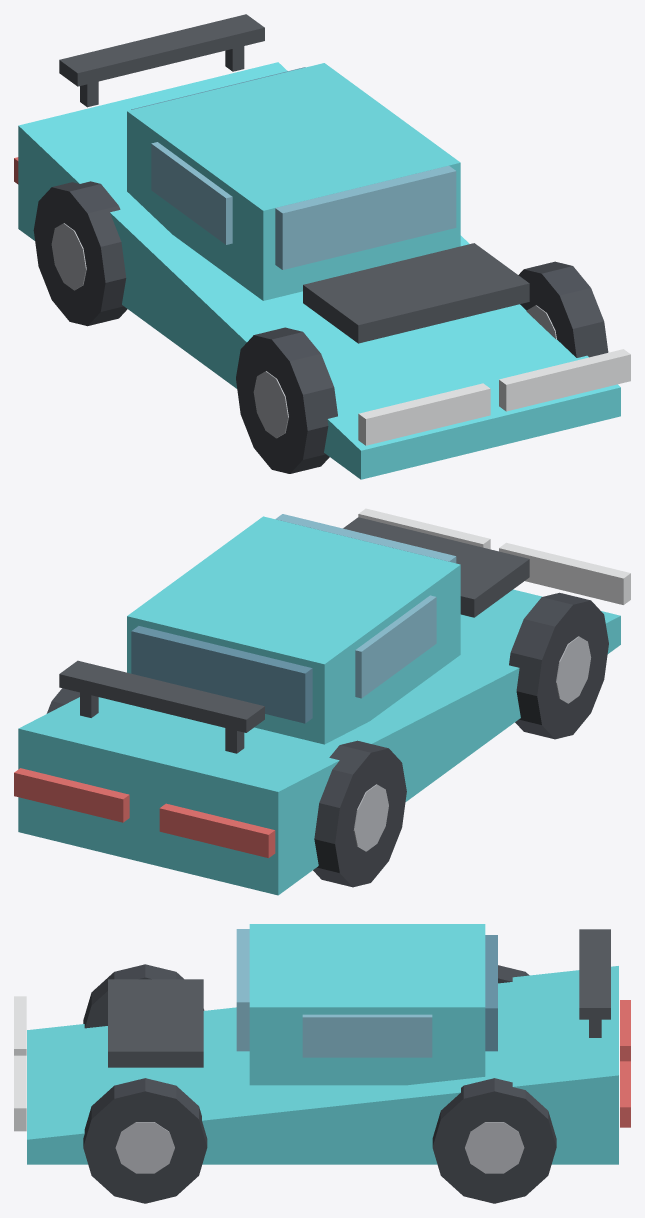
The model's file is player_sportier_coupe.glb.
3 renders of one model, top to bottom at view 1: azimuth 30°, elevation 25°; view 2: azimuth 150°, elevation 25°; view 3: azimuth 270°, elevation 25°, orthographic. The views are drawn at different scales.
Parts seen in each view (by area): view 1: body_0, roof_1, hood_vent_21, windshield_2, wheel_FL_6, wheel_RL_10, spoiler_18, wheel_FR_8, headlight_L_14, headlight_R_15, side_glass_L_4, rim_FL_7 (+1 smaller); view 2: body_0, roof_1, wheel_FL_6, rear_glass_3, wheel_RL_10, spoiler_18, hood_vent_21, side_glass_L_4, headlight_L_14, taillight_L_16, taillight_R_17, rim_RL_11 (+3 smaller); view 3: body_0, roof_1, wheel_FR_8, wheel_RR_12, hood_vent_21, side_glass_R_5, spoiler_18, rim_RR_13, rim_FR_9, wheel_FL_6, windshield_2, rear_glass_3 (+4 smaller).
Boxes of the visible parts, x1=… form: body_0: x1=18, y1=62, x2=620, y2=479; roof_1: x1=127, y1=63, x2=460, y2=300; hood_vent_21: x1=303, y1=243, x2=529, y2=343; windshield_2: x1=275, y1=165, x2=456, y2=269; wheel_FL_6: x1=236, y1=327, x2=337, y2=473; wheel_RL_10: x1=33, y1=181, x2=127, y2=326; spoiler_18: x1=59, y1=14, x2=264, y2=86; wheel_FR_8: x1=518, y1=261, x2=608, y2=357; headlight_L_14: x1=358, y1=383, x2=490, y2=445; headlight_R_15: x1=499, y1=349, x2=630, y2=411; side_glass_L_4: x1=151, y1=142, x2=232, y2=244; rim_FL_7: x1=253, y1=371, x2=288, y2=438; body_0: x1=18, y1=589, x2=620, y2=895; roof_1: x1=127, y1=516, x2=460, y2=744; wheel_FL_6: x1=509, y1=592, x2=608, y2=739; rear_glass_3: x1=131, y1=626, x2=312, y2=723; wheel_RL_10: x1=313, y1=740, x2=406, y2=887; spoiler_18: x1=59, y1=660, x2=264, y2=732; hood_vent_21: x1=343, y1=517, x2=529, y2=617; side_glass_L_4: x1=355, y1=595, x2=436, y2=698; headlight_L_14: x1=499, y1=542, x2=630, y2=604; taillight_L_16: x1=159, y1=803, x2=275, y2=858; taillight_R_17: x1=14, y1=768, x2=129, y2=822; rim_RL_11: x1=353, y1=784, x2=388, y2=851; body_0: x1=27, y1=966, x2=618, y2=1164; roof_1: x1=249, y1=924, x2=485, y2=1085; wheel_FR_8: x1=83, y1=1078, x2=207, y2=1203; wheel_RR_12: x1=432, y1=1078, x2=556, y2=1203; hood_vent_21: x1=108, y1=979, x2=203, y2=1067; side_glass_R_5: x1=302, y1=1014, x2=432, y2=1057; spoiler_18: x1=579, y1=929, x2=610, y2=1019; rim_RR_13: x1=464, y1=1122, x2=524, y2=1173; rim_FR_9: x1=115, y1=1122, x2=174, y2=1173; wheel_FL_6: x1=83, y1=964, x2=204, y2=1028; windshield_2: x1=236, y1=929, x2=249, y2=1051; rear_glass_3: x1=485, y1=935, x2=497, y2=1051.
Size of the model in its own units: 1.9 by 1.21 by 3.88.
